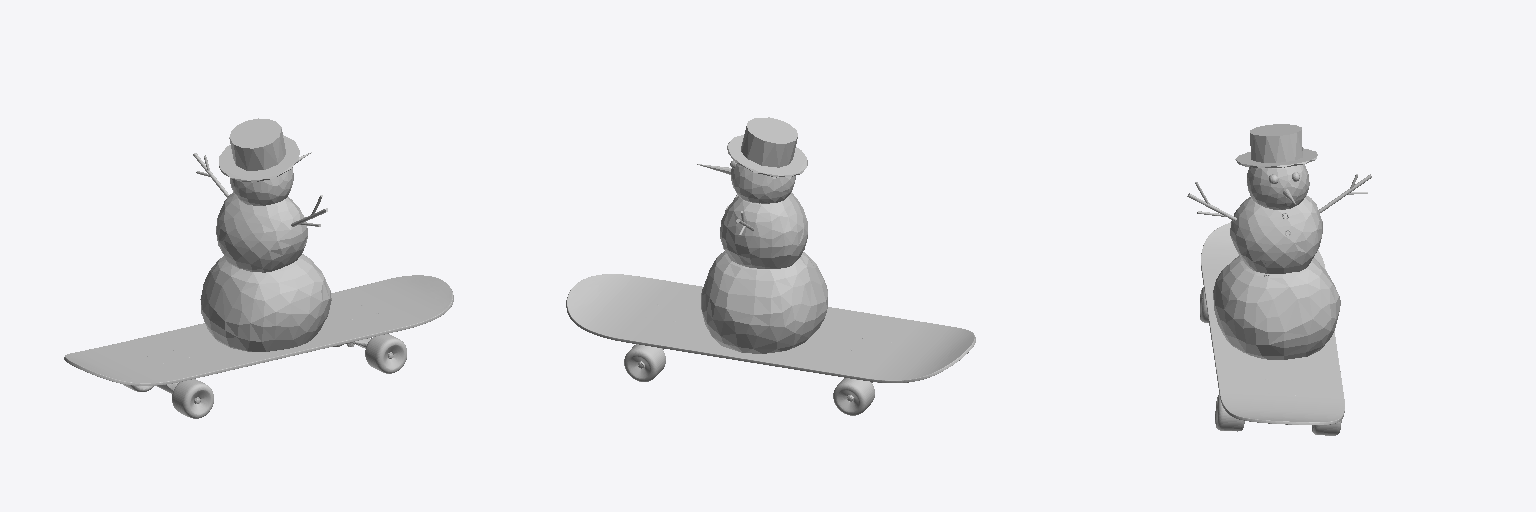
File: snowman_skate.obj
3 views of the same model, side by side, from view 1: azimuth 30°, elevation 25°; view 2: azimuth 150°, elevation 25°; view 3: azimuth 270°, elevation 25° (orthographic).
Visible parts, largest first — view 1: skateboard.002, Sphere.022, Sphere.021, Cylinder.038, Sphere.020, Cylinder.039; view 2: skateboard.002, Sphere.022, Sphere.021, Cylinder.038, Sphere.020, Cylinder.039; view 3: skateboard.002, Sphere.022, Sphere.021, Sphere.020, Cylinder.038, Cylinder.039.
Boxes of the visible parts, x1=… form: skateboard.002: x1=64, y1=275, x2=453, y2=418; Sphere.022: x1=200, y1=254, x2=331, y2=351; Sphere.021: x1=216, y1=192, x2=307, y2=272; Cylinder.038: x1=229, y1=118, x2=285, y2=170; Sphere.020: x1=230, y1=168, x2=293, y2=205; Cylinder.039: x1=219, y1=135, x2=299, y2=181; skateboard.002: x1=566, y1=274, x2=975, y2=415; Sphere.022: x1=701, y1=251, x2=827, y2=353; Sphere.021: x1=720, y1=192, x2=807, y2=268; Cylinder.038: x1=741, y1=117, x2=797, y2=167; Sphere.020: x1=731, y1=164, x2=795, y2=203; Cylinder.039: x1=727, y1=135, x2=807, y2=177; skateboard.002: x1=1200, y1=222, x2=1344, y2=435; Sphere.022: x1=1213, y1=255, x2=1340, y2=359; Sphere.021: x1=1230, y1=195, x2=1322, y2=273; Sphere.020: x1=1247, y1=164, x2=1309, y2=209; Cylinder.038: x1=1250, y1=124, x2=1302, y2=162; Cylinder.039: x1=1235, y1=148, x2=1317, y2=167.
Size of the model in its own units: 7.66 by 4.97 by 3.22.